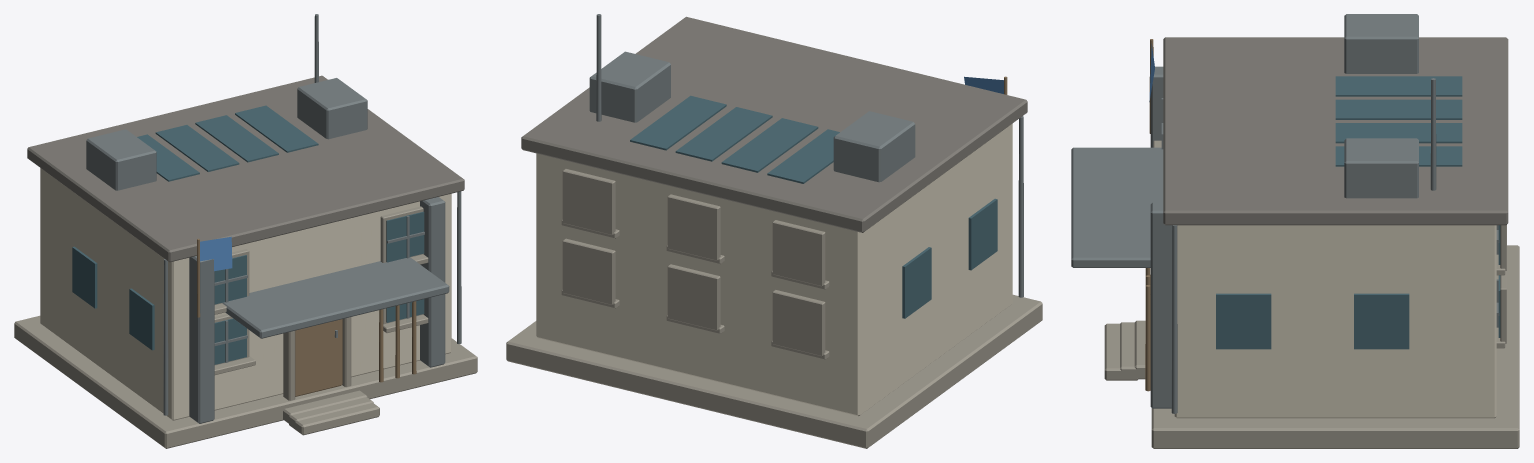
File: bld_caserne_a10.glb
3 views of the same model, side by side, from view 1: azimuth 30°, elevation 25°; view 2: azimuth 150°, elevation 25°; view 3: azimuth 270°, elevation 25° (orthographic). The views are drawn at different scales.
Visible parts, largest first — view 1: bld_caserne_a10; view 2: bld_caserne_a10; view 3: bld_caserne_a10.
Boxes of the visible parts, bbox=[...] form: bld_caserne_a10: bbox=[14, 14, 477, 448]; bld_caserne_a10: bbox=[506, 14, 1042, 448]; bld_caserne_a10: bbox=[1071, 14, 1519, 448].
Size of the model in its own units: 3.8 by 3.31 by 3.9.
